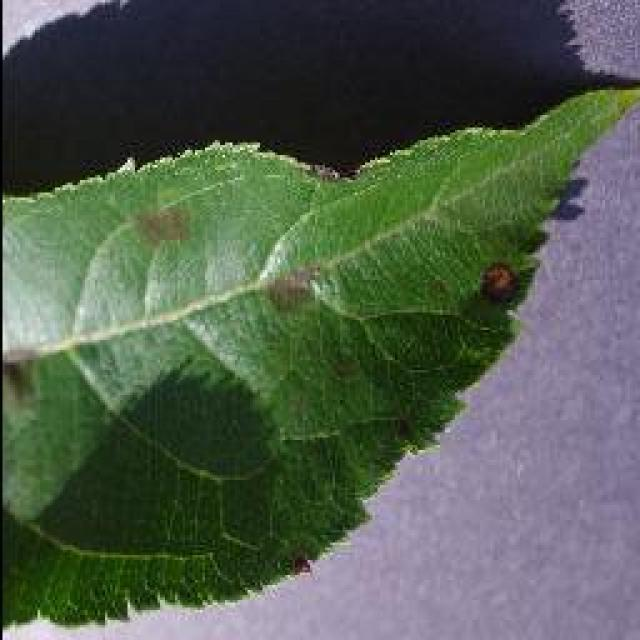apple scab disease: (478, 258, 520, 302)
